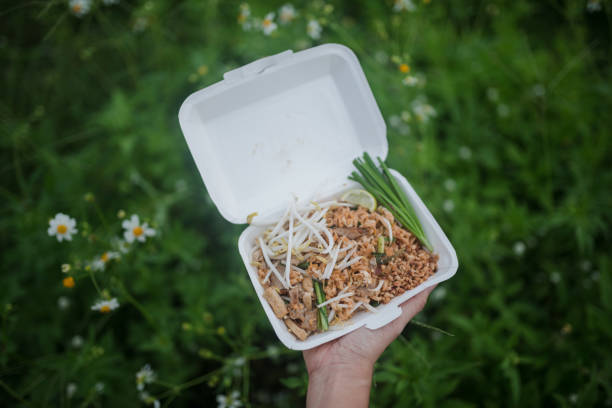styrofoam: (177, 45, 460, 353)
